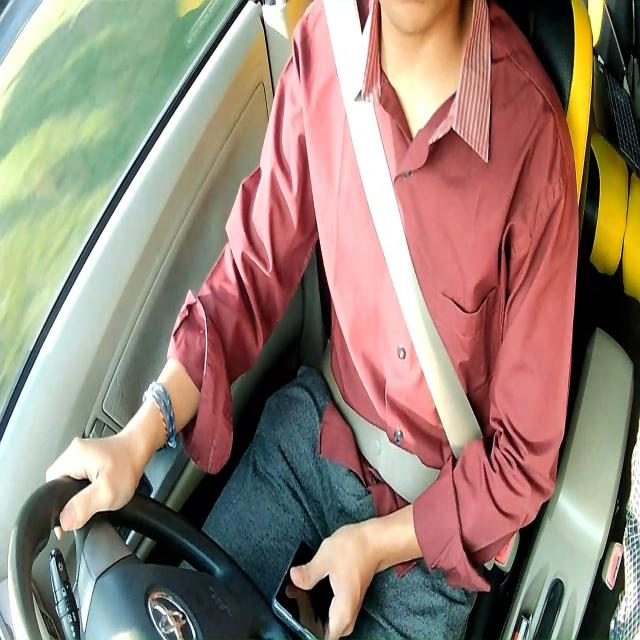phone: (272, 537, 338, 640)
